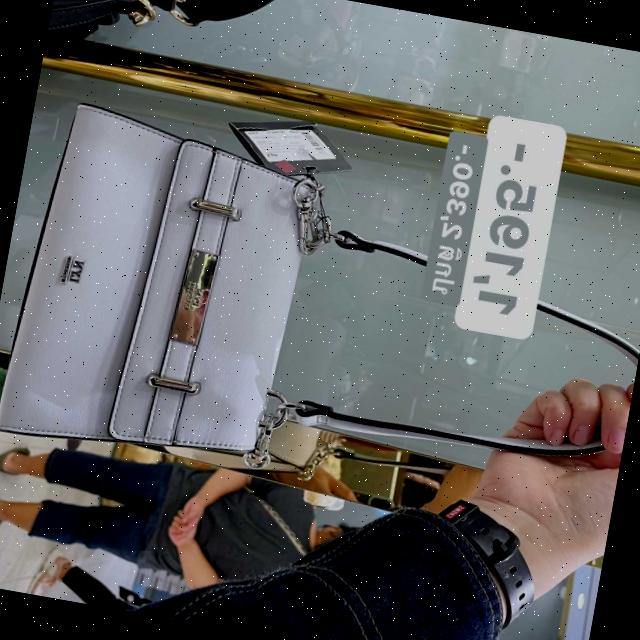Handbag: (0, 33, 337, 501)
